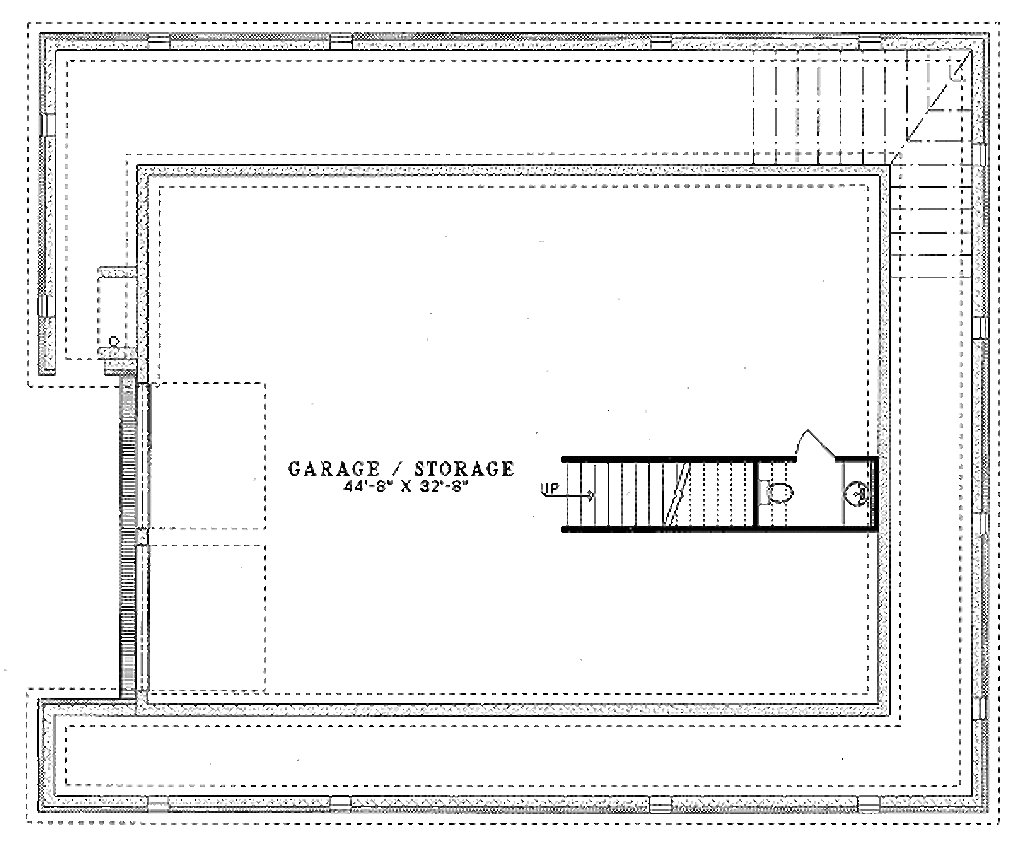small_sink: (846, 463, 875, 532)
stairs: (539, 456, 759, 532)
